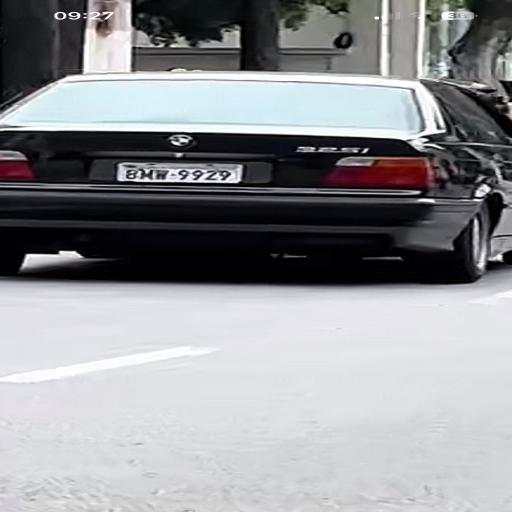detec-o-placas: (22, 117, 343, 230)
